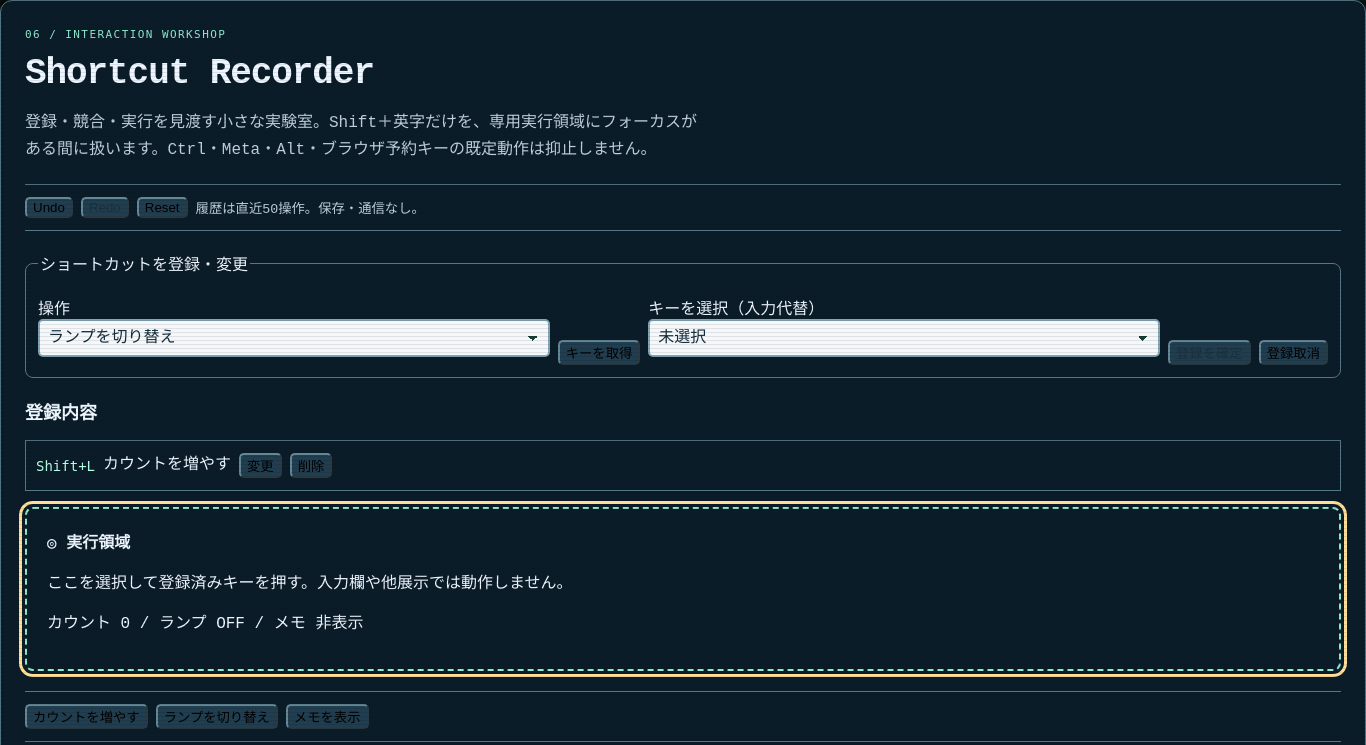
Test case: shortcut records draft, rejects conflict, cancels change and executes only inside focused zone
Earlier steps of the test are not shown.
Later steps or results of the test are not shown.
Select "Shift+L" in the dropdown labelled "キーを選択（入力代替）" at (904, 338), box [648, 319, 1160, 357]
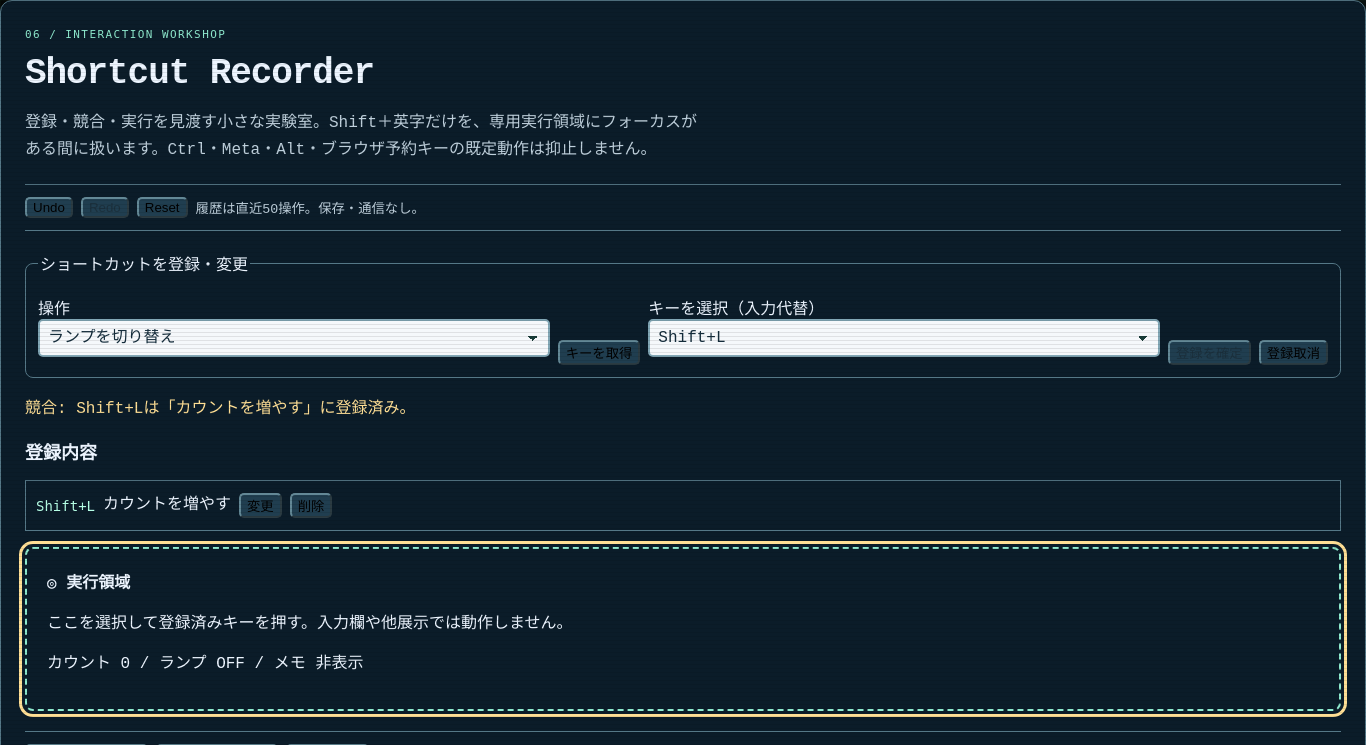
Expected: the button "登録を確定" is disabled, [1168, 340, 1251, 365]
Expected: the message shows "競合", [25, 400, 76, 418]
Click the button "登録取消".
click(1293, 353)  # box [1259, 340, 1328, 365]
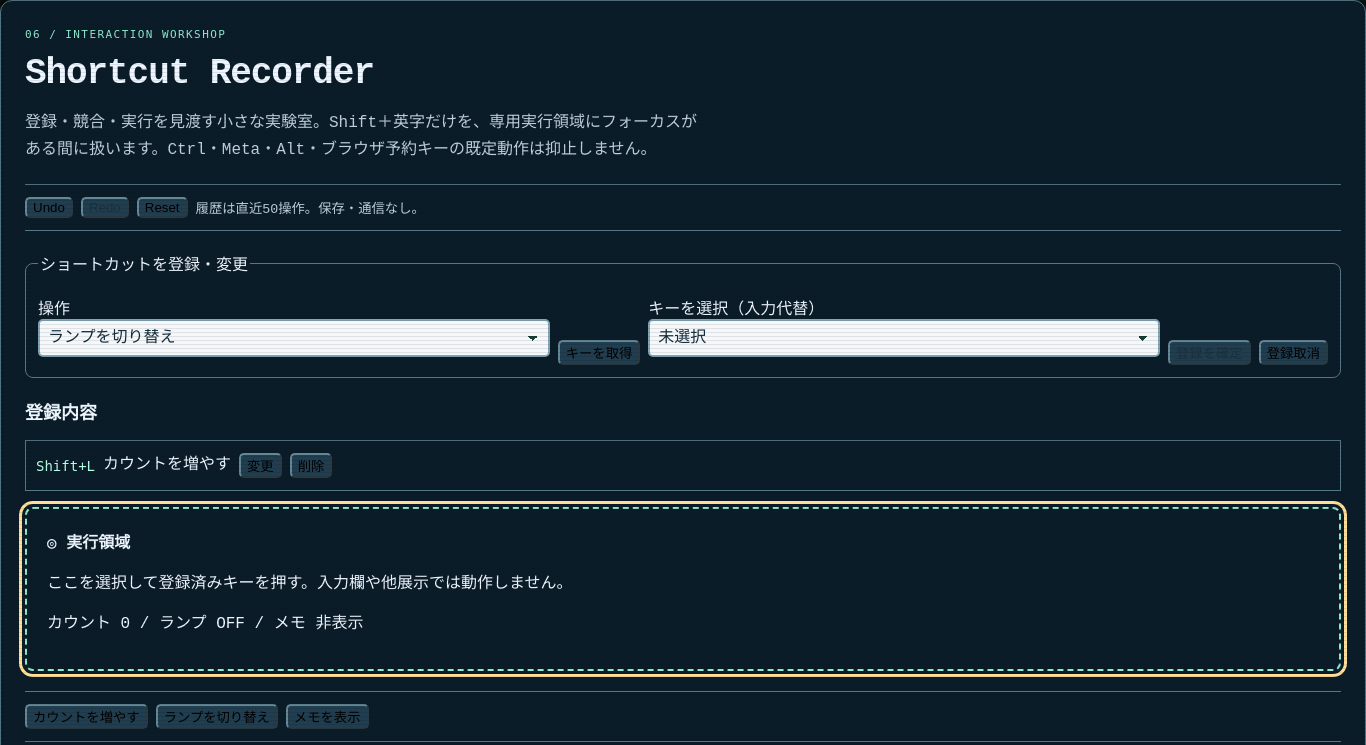
Select "カウントを増やす" in the dropdown labelled "操作" at (294, 338), box [38, 319, 550, 357]
Click the button with aria-label "countの登録を変更".
click(260, 466)  # box [239, 453, 282, 478]
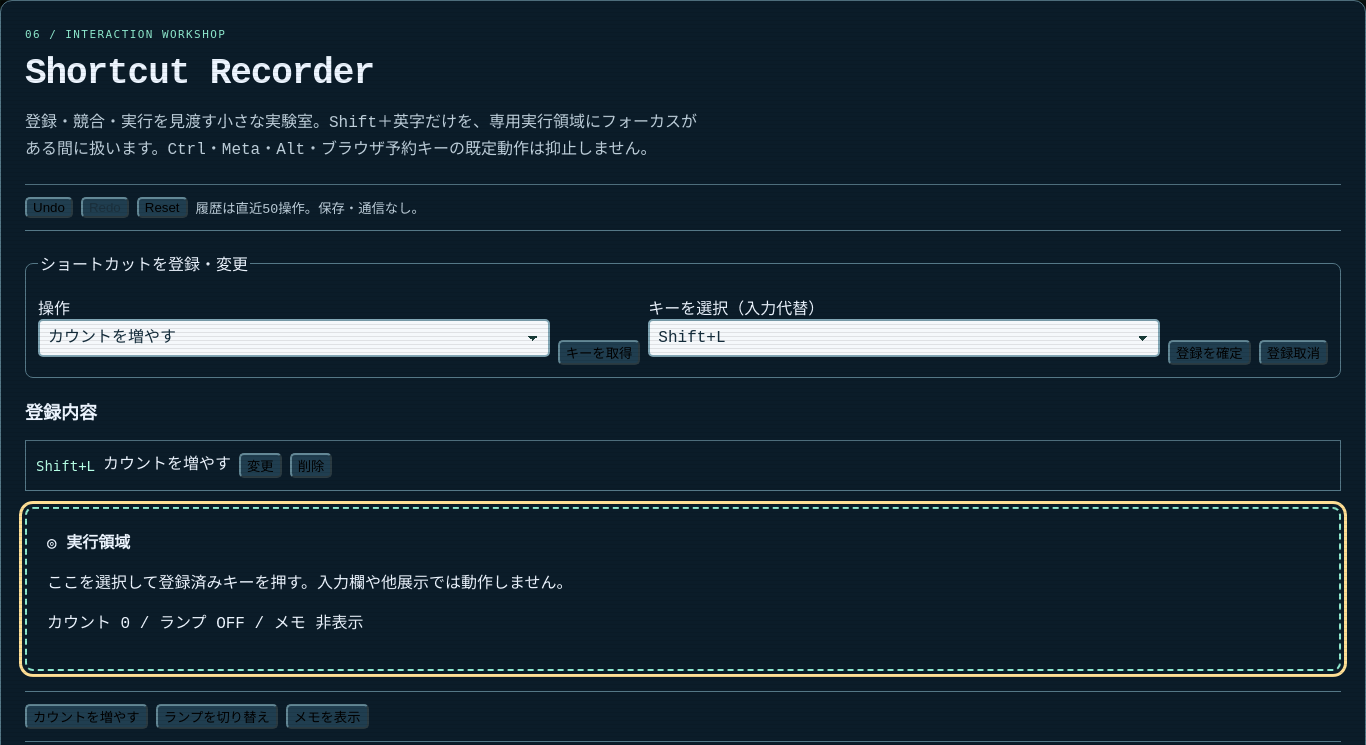
Select "Shift+Z" in the dropdown labelled "キーを選択（入力代替）" at (904, 338), box [648, 319, 1160, 357]
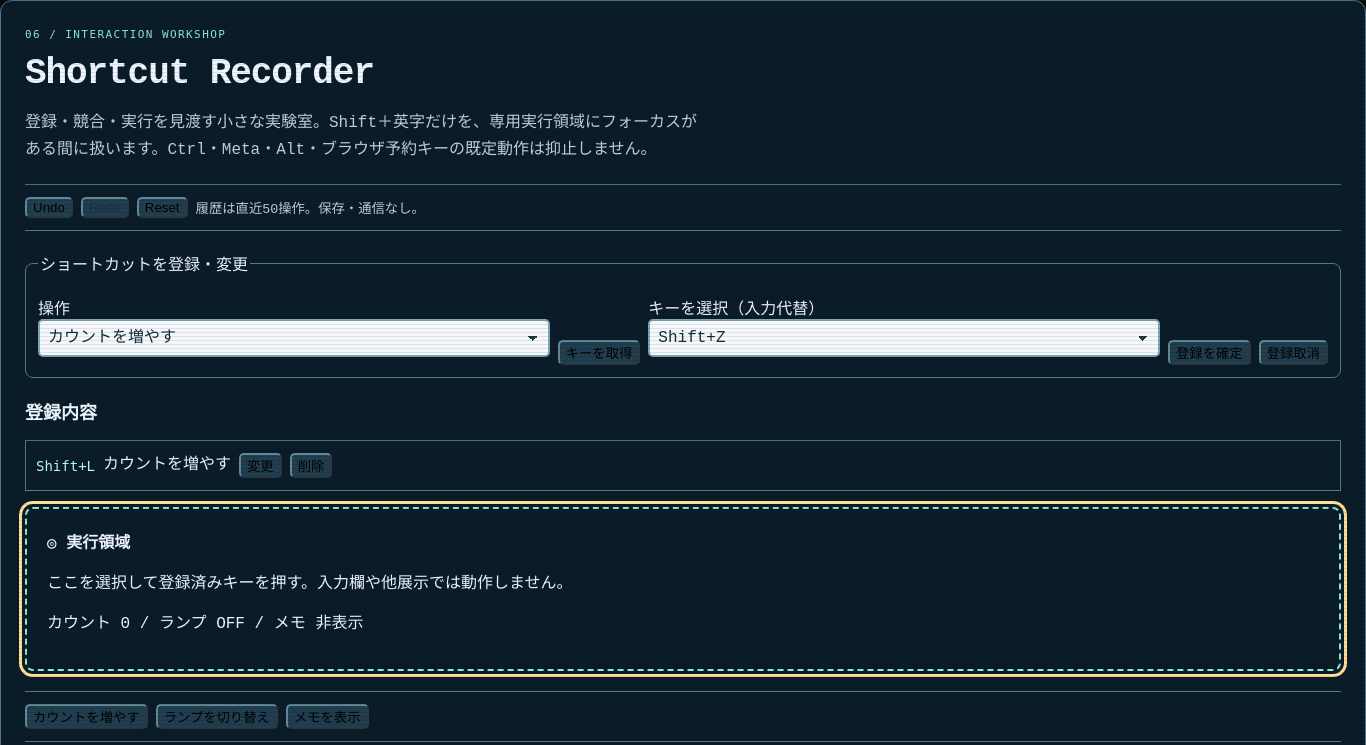
Click the button "登録取消".
click(1293, 353)  # box [1259, 340, 1328, 365]
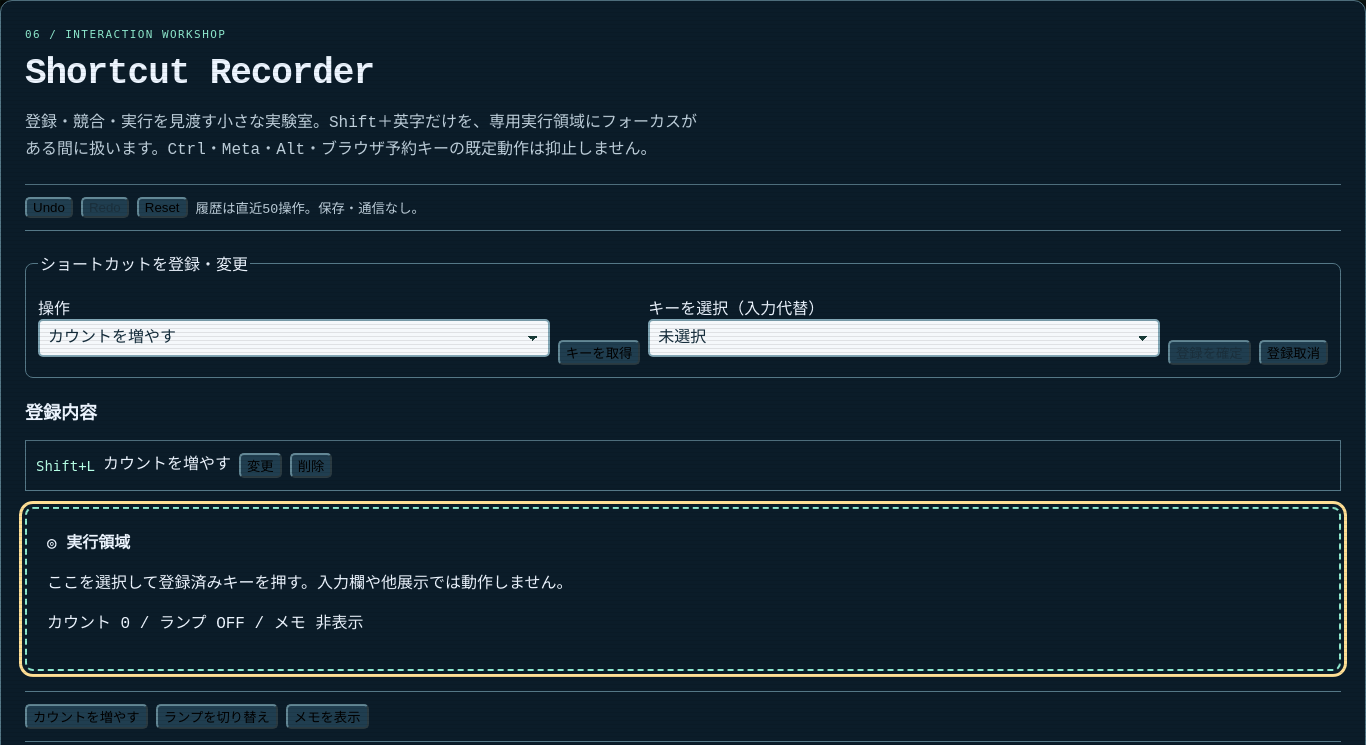
Press L
Expected: the text with test id "shortcut-result" shows "カウント 0", [47, 615, 363, 633]
Press L in the element named "ショートカット実行領域", box [25, 507, 1341, 671]
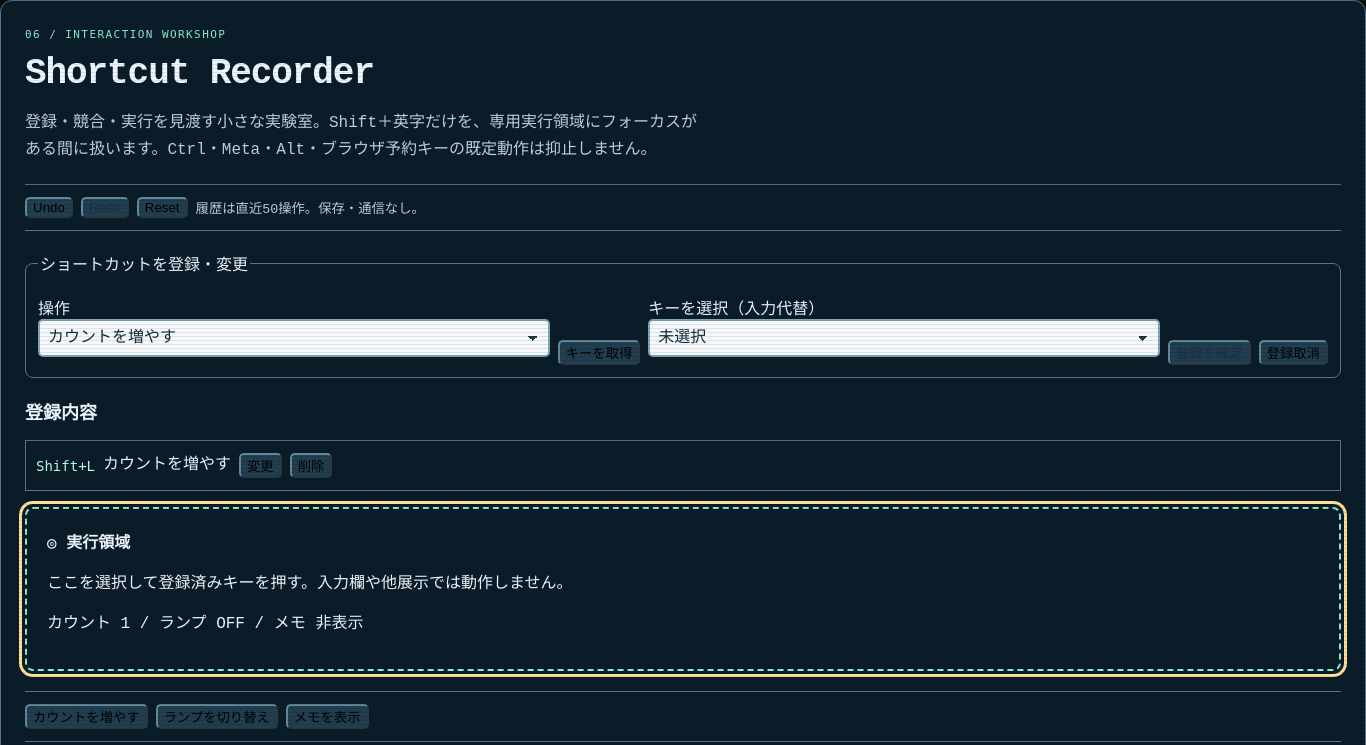
Expected: the text with test id "shortcut-result" shows "カウント 1", [47, 615, 363, 633]
